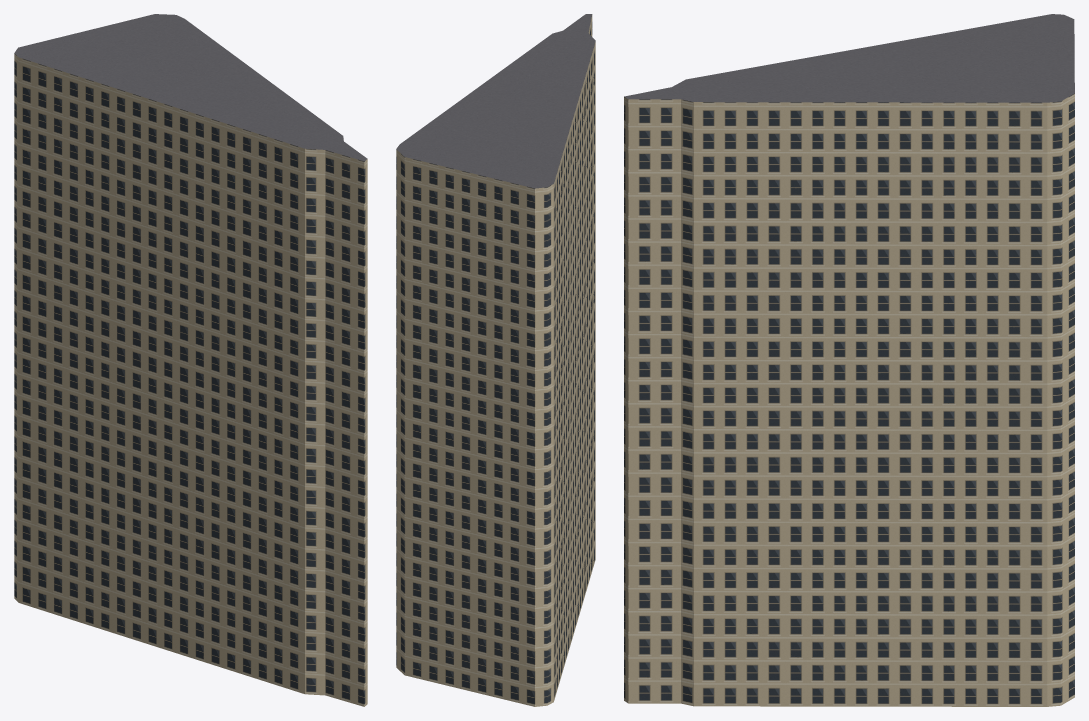
File: bin1016278.glb
3 views of the same model, side by side, from view 1: azimuth 30°, elevation 25°; view 2: azimuth 150°, elevation 25°; view 3: azimuth 270°, elevation 25° (orthographic). The views are drawn at different scales.
Parts seen in each view (by area): view 1: c119, c113, c109, c117, c115, c118, c111, c110, c116, c114, c112, c108 (+55 smaller); view 2: c119, c83, c77, c41, c73, c37, c81, c79, c82, c45, c43, c46 (+67 smaller); view 3: c119, c113, c109, c117, c115, c118, c111, c110, c116, c114, c125, c112 (+42 smaller).
Boxes of the visible parts, x1,y1,x2,y2 form: c119: (213, 96, 367, 198); c113: (213, 385, 367, 484); c109: (213, 572, 367, 669); c117: (213, 204, 367, 293); c115: (213, 295, 367, 384); c118: (213, 156, 367, 245); c111: (213, 482, 367, 570); c110: (213, 528, 367, 614); c116: (213, 252, 367, 336); c114: (213, 343, 367, 427); c112: (213, 443, 367, 524); c108: (213, 627, 367, 706); c119: (501, 14, 595, 120); c83: (410, 147, 497, 210); c77: (410, 411, 483, 483); c41: (483, 429, 554, 495); c73: (410, 589, 483, 658); c37: (483, 607, 554, 671); c81: (410, 238, 483, 301); c79: (410, 325, 483, 388); c82: (410, 193, 483, 256); c45: (483, 256, 554, 314); c43: (483, 343, 554, 400); c46: (483, 211, 554, 268); c119: (624, 58, 825, 142); c113: (624, 391, 812, 460); c109: (624, 598, 812, 664); c117: (624, 190, 812, 249); c115: (624, 291, 812, 349); c118: (624, 137, 812, 195); c111: (624, 499, 812, 555); c110: (624, 550, 812, 604); c116: (624, 243, 812, 296); c114: (624, 344, 812, 396); c125: (812, 396, 945, 460); c112: (624, 455, 812, 504).
Bounding box in the file's own units: 28.83 × 91.53 × 61.89.
3 materials, 3 textured.
